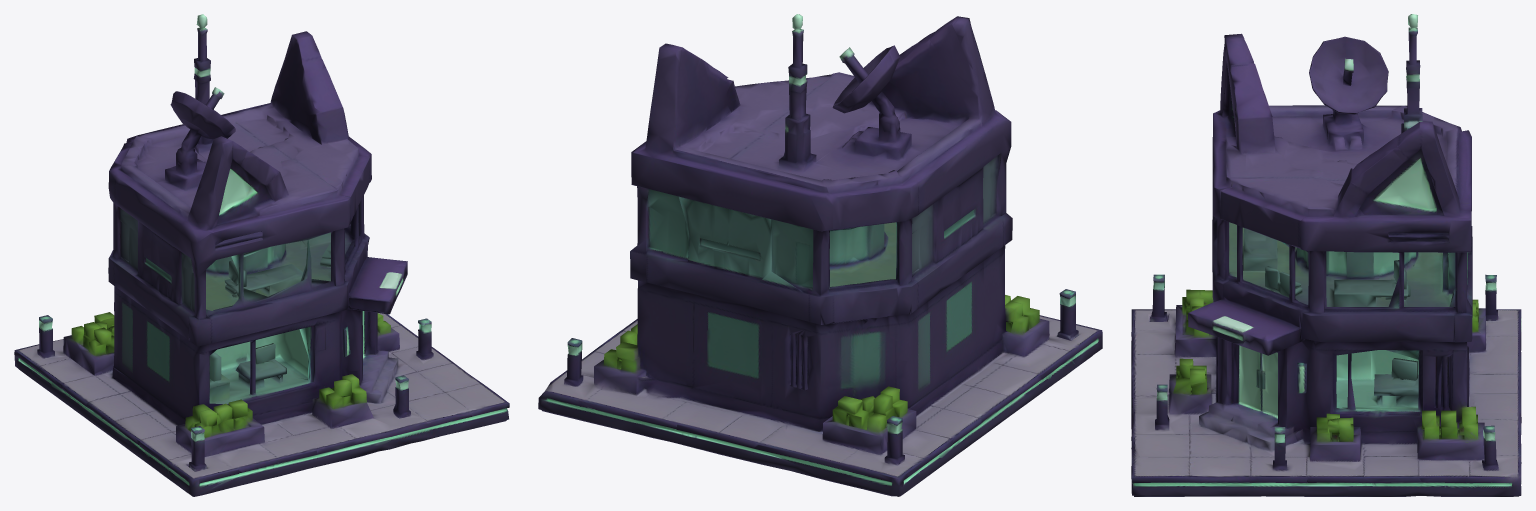
Rendered from agency-hq.glb.
3 renders of one model, left to right at view 1: azimuth 30°, elevation 25°; view 2: azimuth 150°, elevation 25°; view 3: azimuth 270°, elevation 25°, orthographic. The views are drawn at different scales.
Visible parts, largest first — view 1: tripo_node_e35c4762-006d-44ed-8787-3534225e2f2a; view 2: tripo_node_e35c4762-006d-44ed-8787-3534225e2f2a; view 3: tripo_node_e35c4762-006d-44ed-8787-3534225e2f2a.
Boxes of the visible parts, x1,y1,x2,y2 form: tripo_node_e35c4762-006d-44ed-8787-3534225e2f2a: [14, 14, 509, 496]; tripo_node_e35c4762-006d-44ed-8787-3534225e2f2a: [538, 14, 1102, 496]; tripo_node_e35c4762-006d-44ed-8787-3534225e2f2a: [1131, 14, 1521, 496].
Size of the model in its own units: 0.931 by 1 by 0.9081.
1 material, 1 textured.
